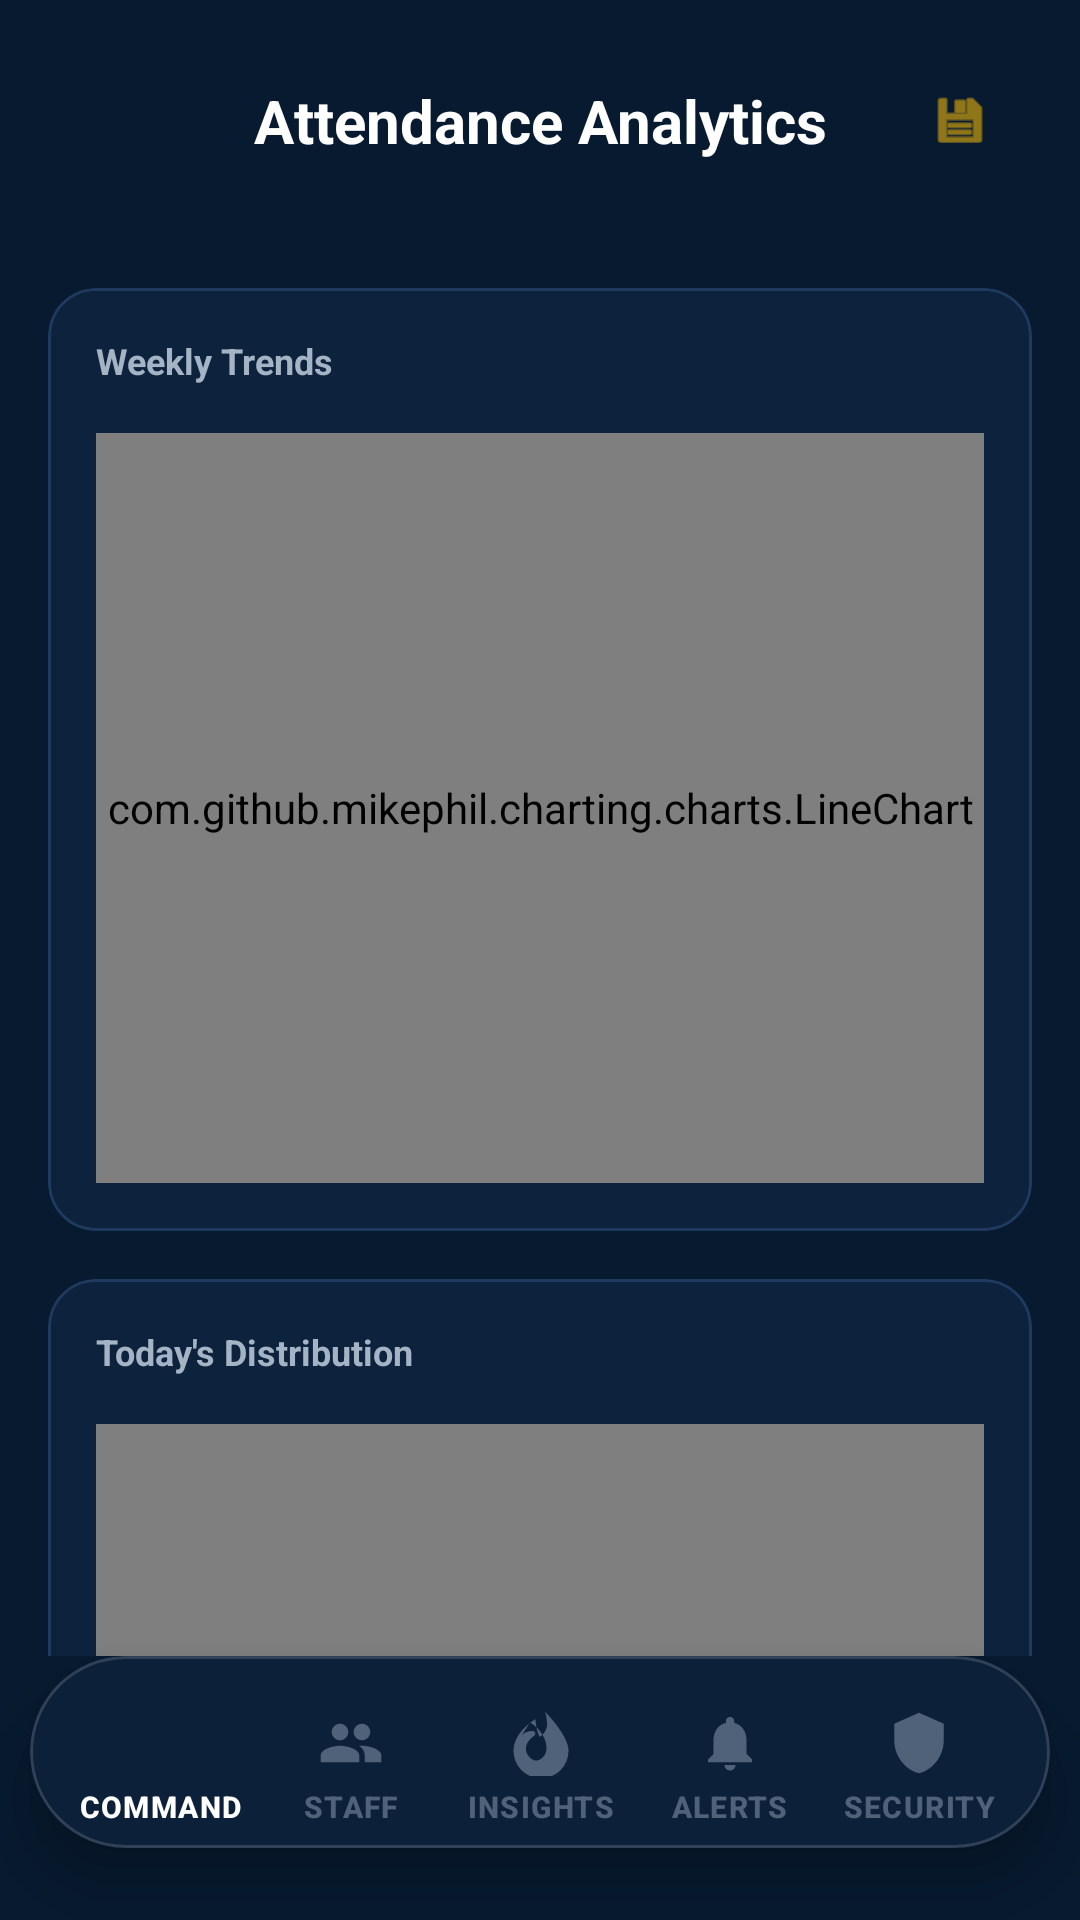

Icon click points for this 1080 x 1920 phone screenshot, format (x,y):
save: (960,120)
